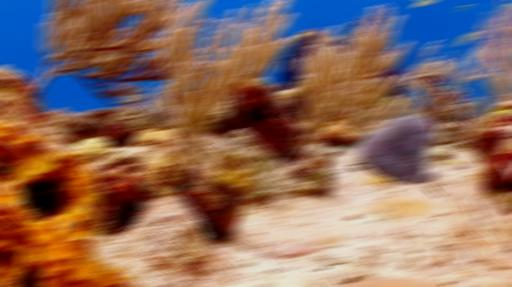Fish: (454, 32, 479, 46), (414, 0, 436, 7), (453, 4, 472, 11), (294, 32, 307, 40), (489, 110, 510, 114)
